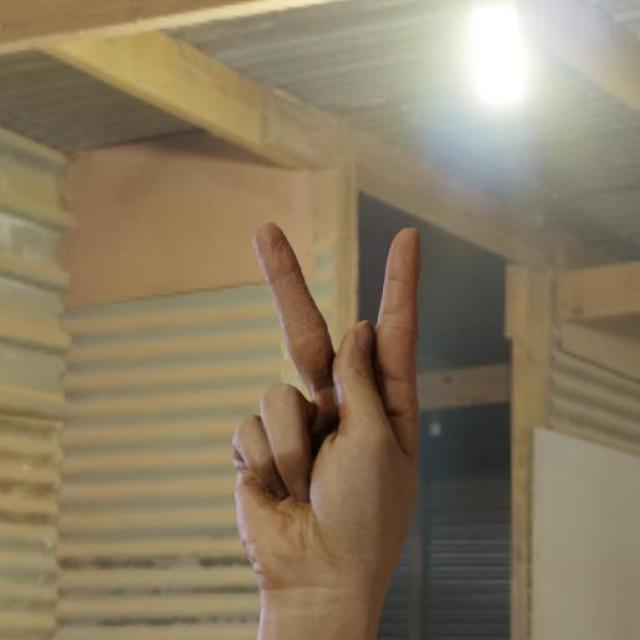K: (226, 217, 424, 599)
